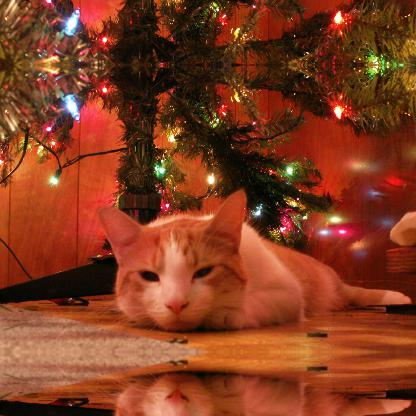Cat: (89, 186, 410, 332), (89, 371, 411, 415)
